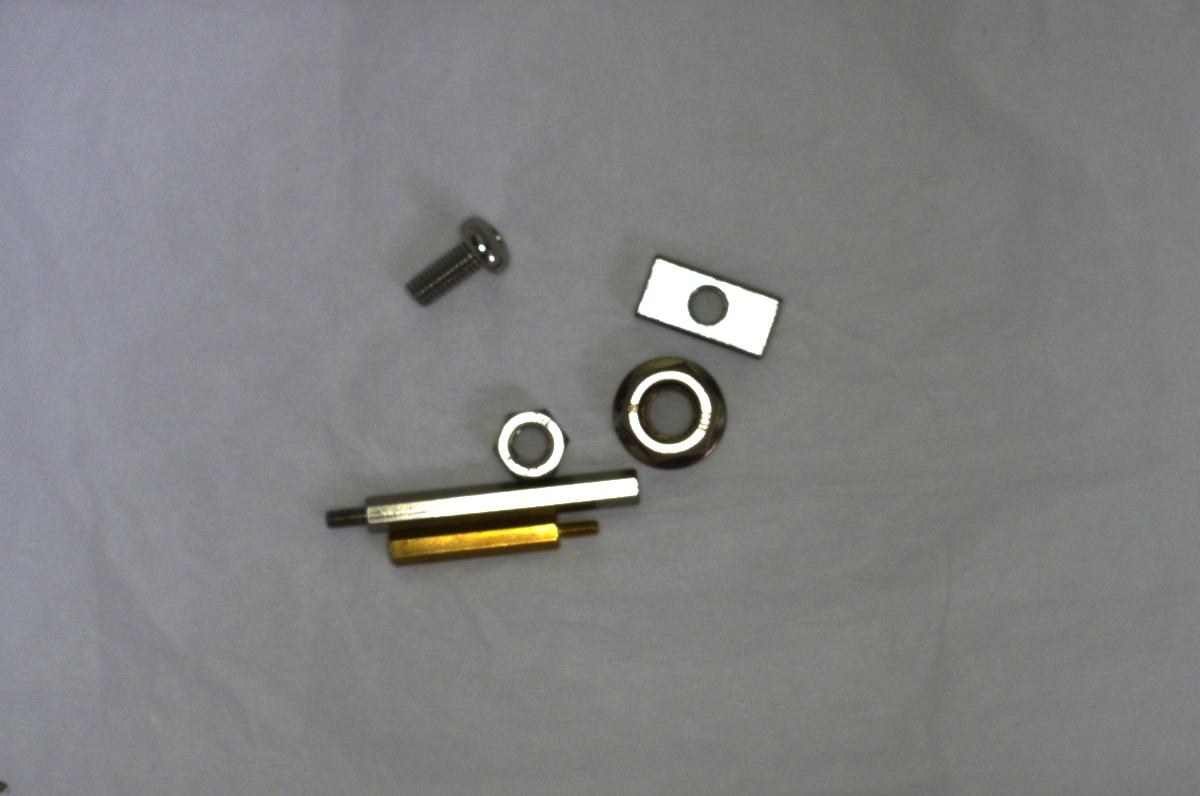Flange nut: (598, 354, 740, 473)
Hexagon nut: (485, 406, 578, 482)
Hexagon pillar: (386, 512, 607, 569)
Hexagonal steel column: (310, 462, 655, 532)
Rectangular nut: (638, 248, 782, 358)
Round head screw: (402, 210, 517, 310)
